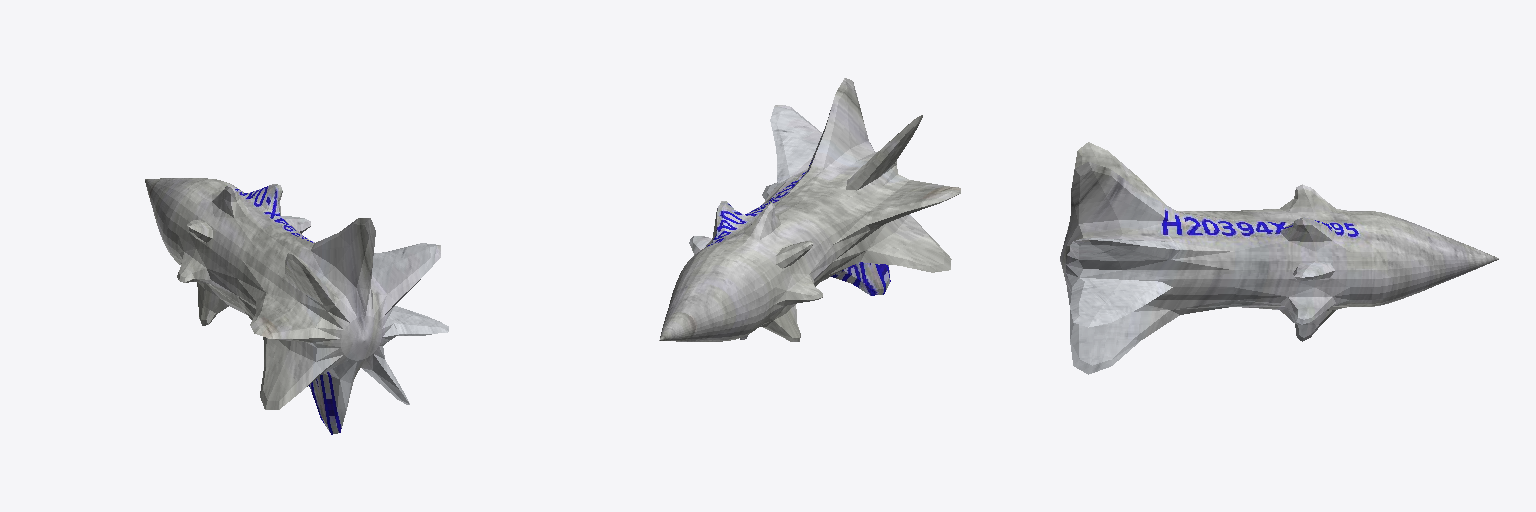
The picture shows the model from 3 angles: view 1: azimuth 30°, elevation 25°; view 2: azimuth 150°, elevation 25°; view 3: azimuth 270°, elevation 25°; orthographic projection.
Visible parts, largest first — view 1: ShapeIndexedFaceSet; view 2: ShapeIndexedFaceSet; view 3: ShapeIndexedFaceSet.
Boxes of the visible parts, x1=… form: ShapeIndexedFaceSet: x1=145, y1=178, x2=448, y2=434; ShapeIndexedFaceSet: x1=659, y1=78, x2=960, y2=341; ShapeIndexedFaceSet: x1=1060, y1=142, x2=1498, y2=374.
Bounding box in the file's own units: 0.4326 × 0.4403 × 0.8475.
1 materials, 1 textured.